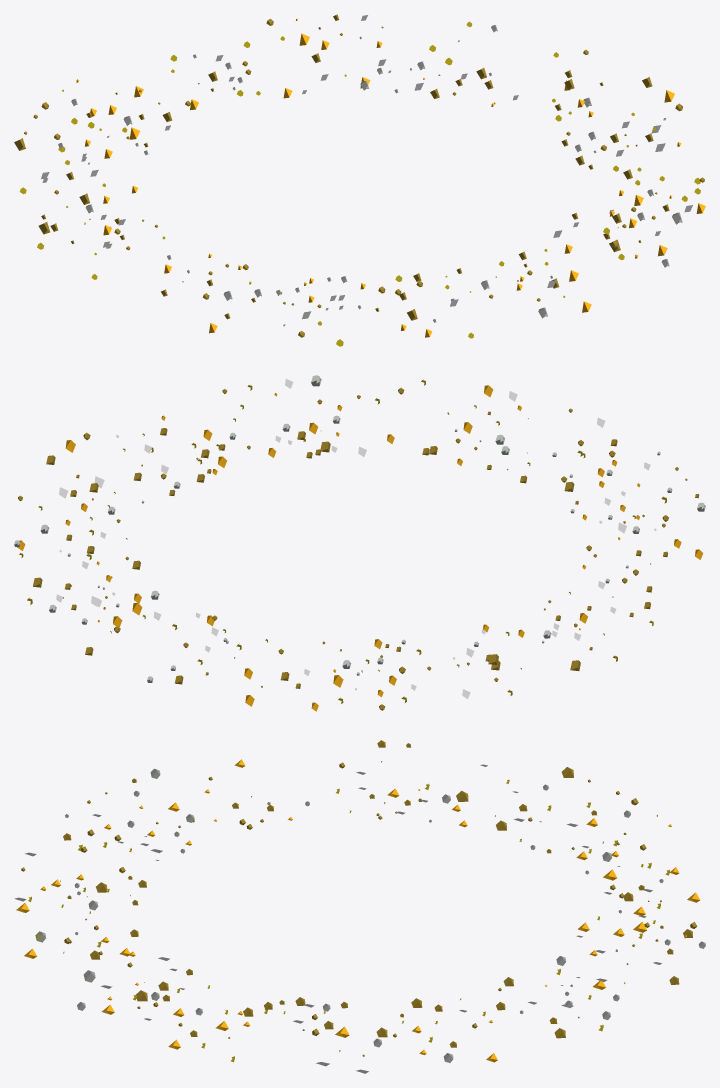
The model's file is rocksRing-transformed.glb.
3 renders of one model, top to bottom at view 1: azimuth 30°, elevation 25°; view 2: azimuth 150°, elevation 25°; view 3: azimuth 270°, elevation 25°, orthographic.
Parts seen in each view (by area): view 1: rock01.075; view 2: rock01.075; view 3: rock01.075.
Boxes of the visible parts, left/top/right/bottom form: rock01.075: left=14, top=14, right=705, bottom=346; rock01.075: left=14, top=375, right=705, bottom=711; rock01.075: left=14, top=740, right=705, bottom=1073.
Size of the model in its own units: 5.48 by 0.4369 by 5.46.
2 materials, 2 textured.
